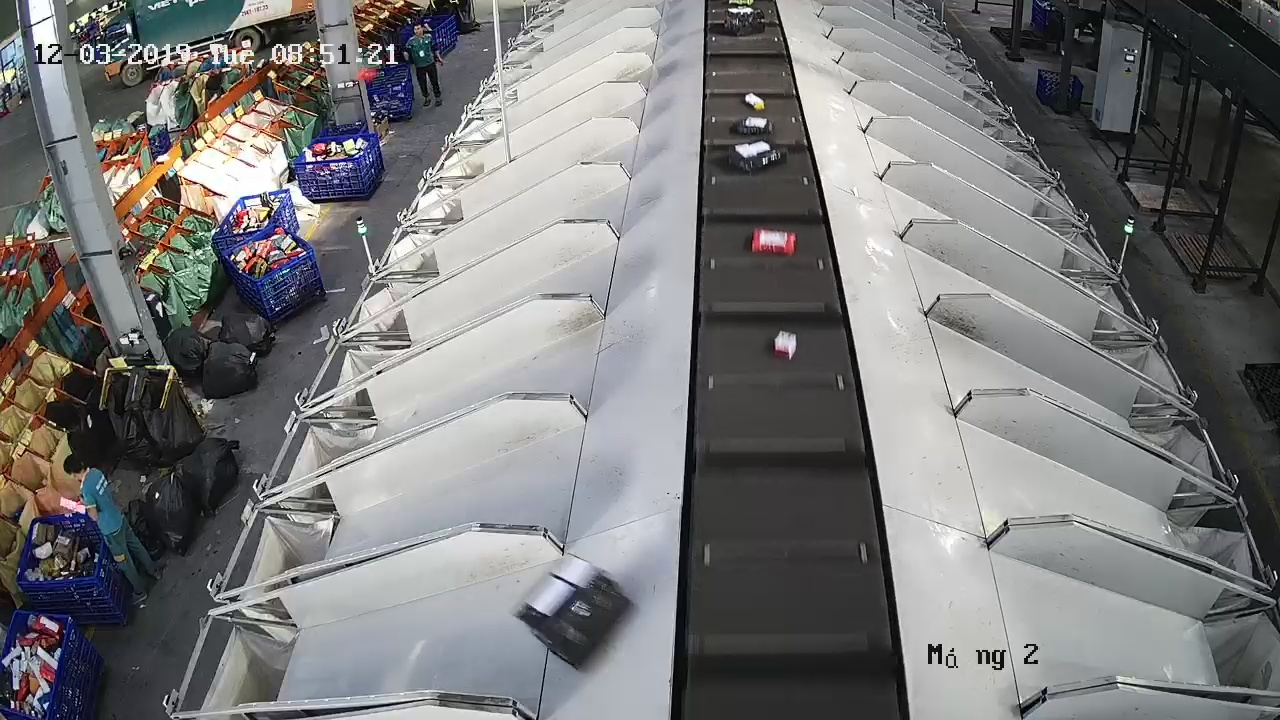parcel: (510, 552, 631, 671)
